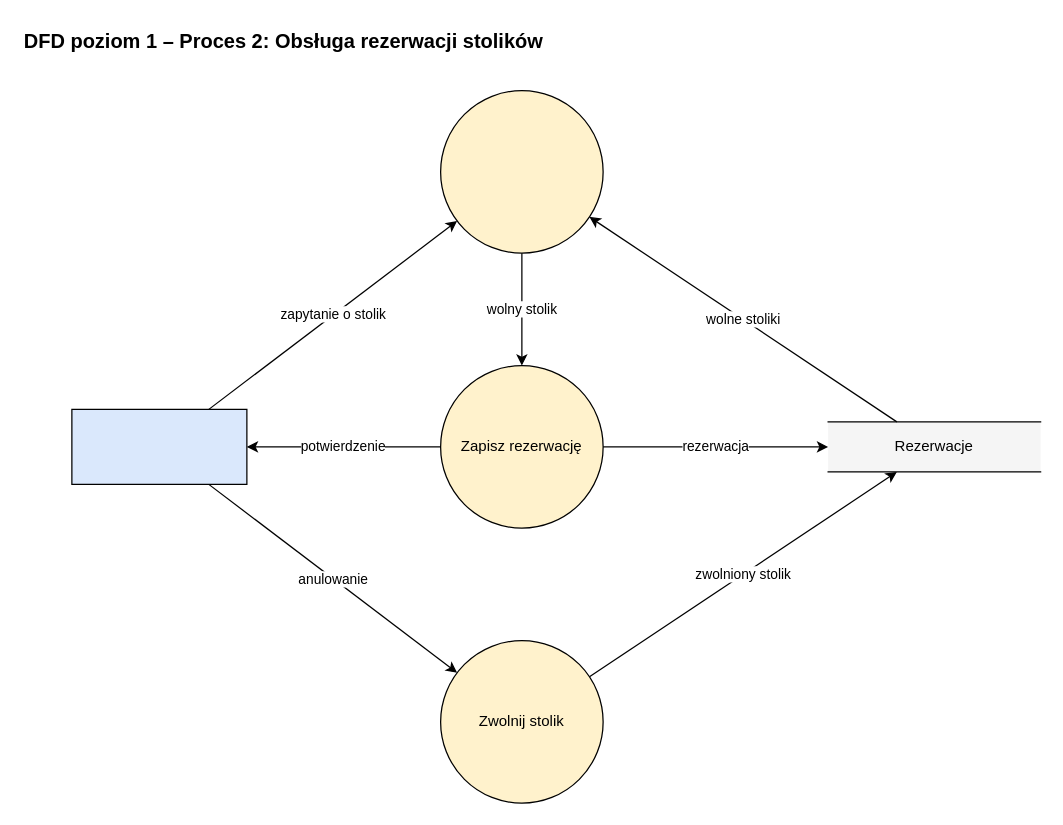
Image size: 1063x825. Some labels were removed from this diagram. Here are the shapes that lost their labels. From the top down, the box of each, then its label:
(439, 89, 603, 253): Sprawdź dostępność
(71, 408, 247, 484): Klient
